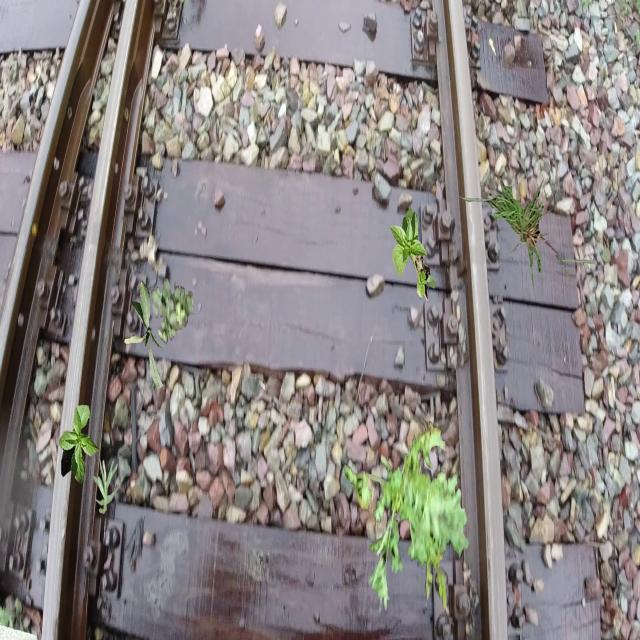Plant: (345, 419, 470, 615), (452, 175, 596, 294), (389, 207, 437, 302), (124, 281, 164, 391), (59, 405, 101, 485), (151, 278, 194, 344), (93, 458, 120, 514)
